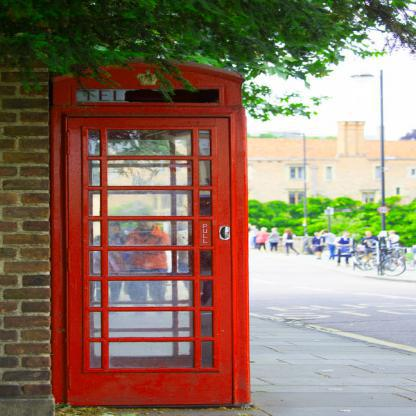door: (60, 115, 239, 408)
hinged: (63, 364, 75, 392), (64, 129, 74, 156), (67, 247, 72, 271)
